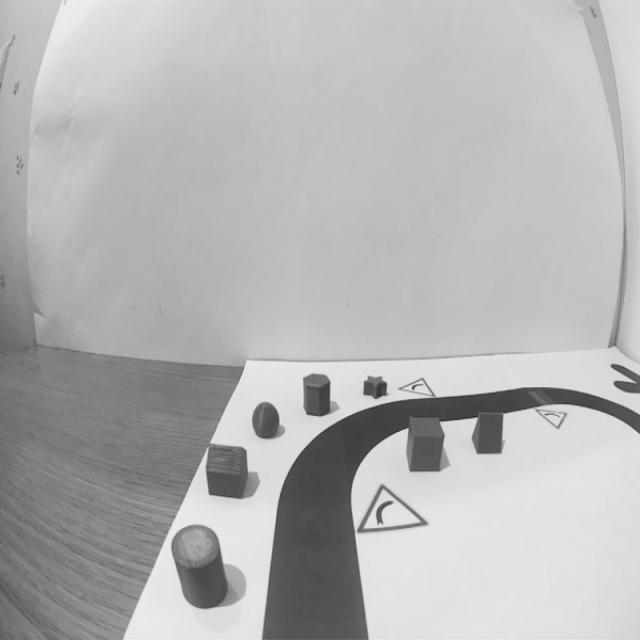ball: (249, 397, 282, 442)
cube: (404, 413, 446, 477)
cylinder: (169, 520, 230, 614)
hexagon: (300, 370, 334, 420)
home: (203, 440, 251, 502)
lineStraight: (252, 535, 374, 640)
rightTurn: (346, 476, 434, 550)
star: (360, 371, 390, 402)
triangle: (468, 406, 508, 459)
